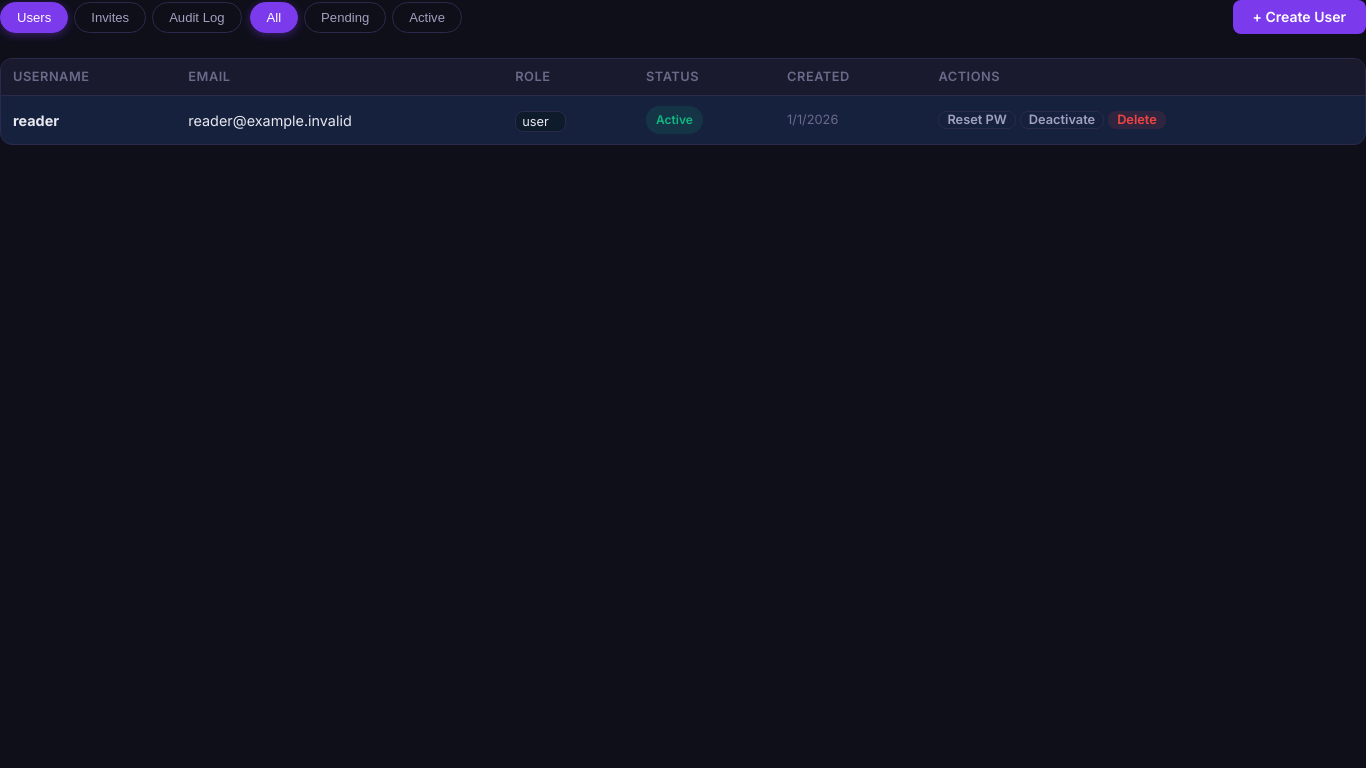
Create User modal › still closes on a backdrop click
Click the button "+ Create User".
click(1299, 17)  # box x1=1233 y1=0 x2=1365 y2=34
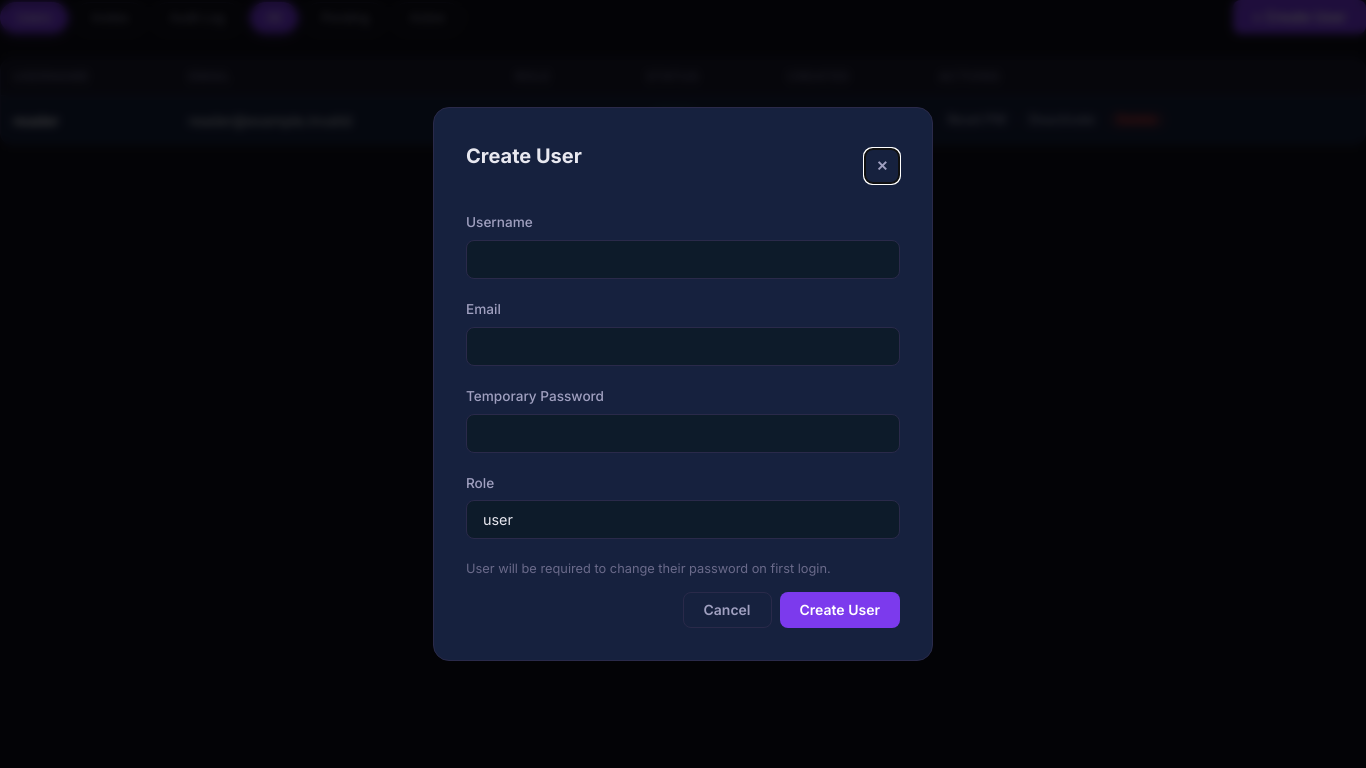
expect the dialog is shown: met, box x1=433 y1=107 x2=933 y2=661
Click the element with class "modal-overlay".
click(82, 384)  # box x1=0 y1=0 x2=1365 y2=767
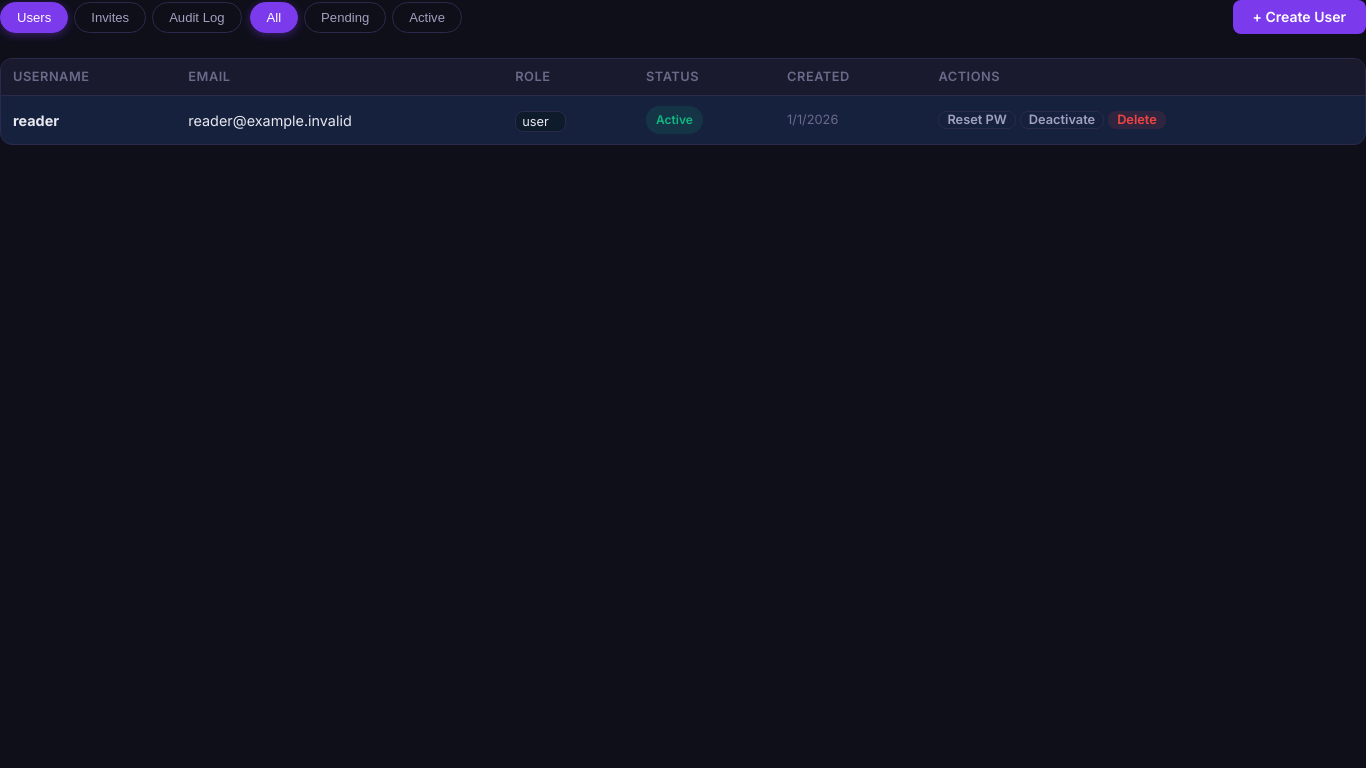
expect the dialog is gone: met
